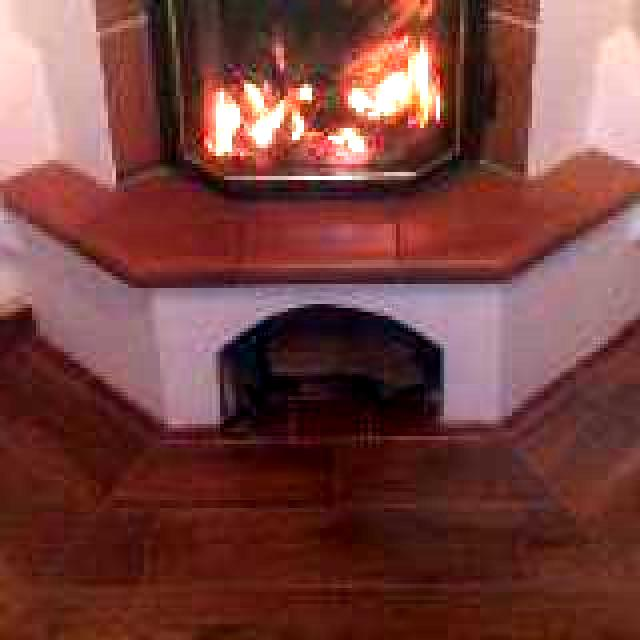fire: (180, 0, 456, 176)
